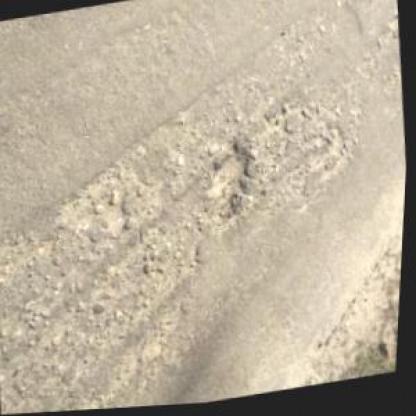pothole: (206, 142, 260, 220)
